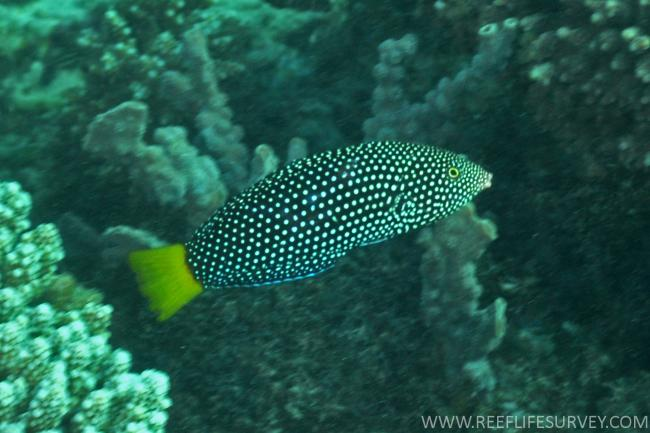fish: (129, 141, 493, 323)
